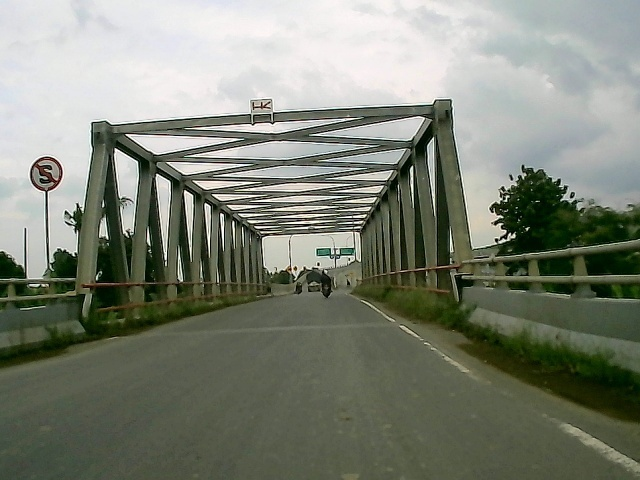Dilarang berhenti: (27, 154, 65, 193)
